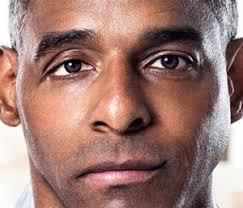strokeEyeSevere: (40, 46, 206, 86)
strokeMouthWeak: (73, 153, 171, 195)
